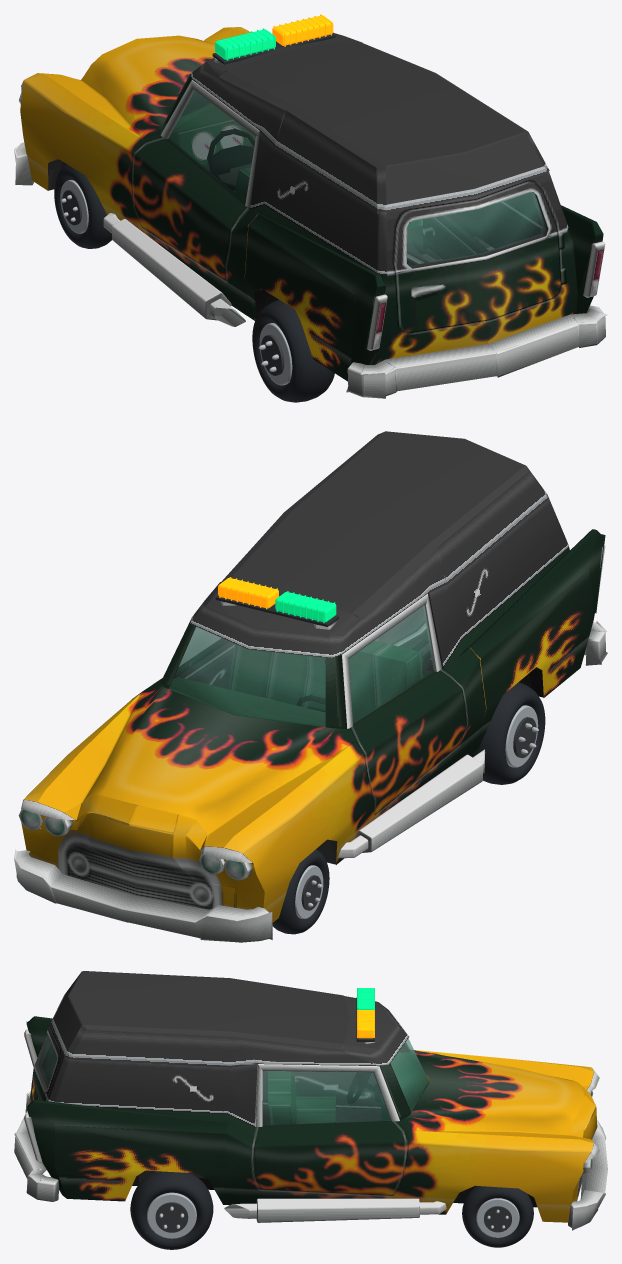
File: car-chears.glb
3 views of the same model, one above another, from view 1: azimuth 30°, elevation 25°; view 2: azimuth 150°, elevation 25°; view 3: azimuth 270°, elevation 25° (orthographic). The views are drawn at different scales.
Visible parts, largest first — view 1: cHearsShape.010, cHearsShape.005, cHearsShape.002, cHearsShape.001, cHearsShape.009, cHearsShape.007, DoorDRotShape.003, cHearsShape.008, windShape.004, cHearsShape.006, chears wheel assembly.002, DoorDWindShape (+5 smaller); view 2: cHearsShape.010, cHearsShape.007, cHearsShape.005, cHearsShape.002, cHearsShape.004, cHearsShape.009, cHearsShape.008, windShape.004, DoorDRotShape.003, cHearsShape.006, DoorDWindShape, chears wheel assembly.002 (+9 smaller); view 3: cHearsShape.005, cHearsShape.010, cHearsShape.003, cHearsShape.007, cHearsShape.002, cHearsShape.009, DoorPRotShape.004, cHearsShape.006, DoorPWindShape, cHearsShape.008, chears wheel assembly, chears wheel assembly.001 (+9 smaller).
Boxes of the visible parts, bbox=[...] form: cHearsShape.010: bbox=[227, 40, 543, 204]; cHearsShape.005: bbox=[190, 33, 568, 275]; cHearsShape.002: bbox=[20, 73, 603, 371]; cHearsShape.001: bbox=[18, 100, 604, 365]; cHearsShape.009: bbox=[14, 40, 607, 398]; cHearsShape.007: bbox=[38, 27, 244, 138]; DoorDRotShape.003: bbox=[132, 135, 248, 281]; cHearsShape.008: bbox=[160, 104, 540, 352]; windShape.004: bbox=[181, 91, 545, 266]; cHearsShape.006: bbox=[163, 75, 356, 381]; chears wheel assembly.002: bbox=[252, 300, 334, 402]; DoorDWindShape: bbox=[168, 90, 255, 203]; cHearsShape.010: bbox=[231, 431, 525, 612]; cHearsShape.007: bbox=[38, 683, 352, 849]; cHearsShape.005: bbox=[190, 432, 568, 667]; cHearsShape.002: bbox=[160, 529, 605, 922]; cHearsShape.004: bbox=[21, 794, 264, 909]; cHearsShape.009: bbox=[14, 545, 607, 942]; cHearsShape.008: bbox=[140, 593, 451, 755]; windShape.004: bbox=[170, 627, 325, 726]; DoorDRotShape.003: bbox=[348, 669, 466, 812]; cHearsShape.006: bbox=[160, 569, 593, 728]; DoorDWindShape: bbox=[349, 605, 435, 723]; chears wheel assembly.002: bbox=[471, 682, 545, 784]; cHearsShape.005: bbox=[35, 971, 409, 1126]; cHearsShape.010: bbox=[53, 971, 349, 1050]; cHearsShape.003: bbox=[223, 1122, 593, 1222]; cHearsShape.007: bbox=[400, 1050, 593, 1142]; cHearsShape.002: bbox=[26, 1016, 593, 1204]; cHearsShape.009: bbox=[14, 1029, 607, 1230]; DoorPRotShape.004: bbox=[252, 1130, 409, 1194]; cHearsShape.006: bbox=[55, 1043, 410, 1201]; DoorPWindShape: bbox=[263, 1071, 390, 1125]; cHearsShape.008: bbox=[44, 1045, 429, 1178]; chears wheel assembly: bbox=[130, 1171, 213, 1249]; chears wheel assembly.001: bbox=[462, 1186, 533, 1247].
Size of the model in its own units: 2.36 by 2.18 by 5.56.
Materials: 18 (12 with a texture image).
